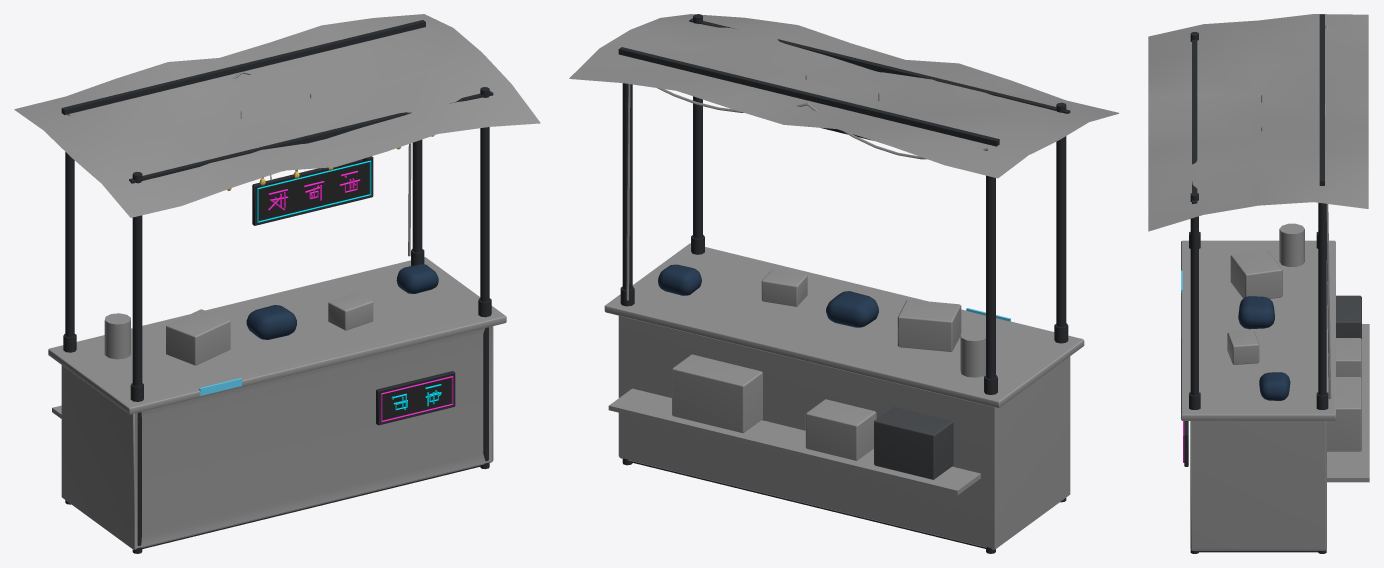
File: MarketStall.fbx
3 renders of one model, left to right at view 1: azimuth 30°, elevation 25°; view 2: azimuth 150°, elevation 25°; view 3: azimuth 270°, elevation 25°, orthographic. The views are drawn at different scales.
Visible parts, largest first — view 1: MarketStall_LOD0; view 2: MarketStall_LOD0; view 3: MarketStall_LOD0.
Boxes of the visible parts, x1,y1,x2,y2 form: MarketStall_LOD0: (14, 14, 540, 553); MarketStall_LOD0: (569, 14, 1118, 553); MarketStall_LOD0: (1148, 14, 1369, 553).
Size of what is drawn, in the model's own units: 2.95 by 2.72 by 1.46.
